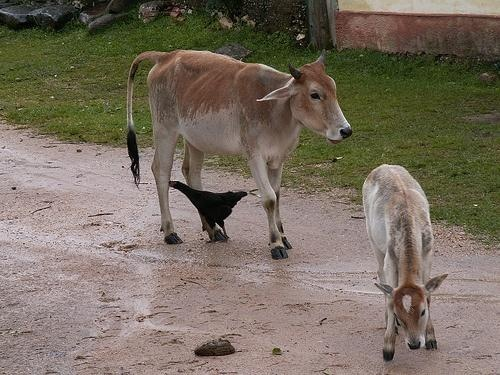bird: (168, 181, 260, 245)
cow: (125, 50, 353, 262), (361, 163, 449, 362)
